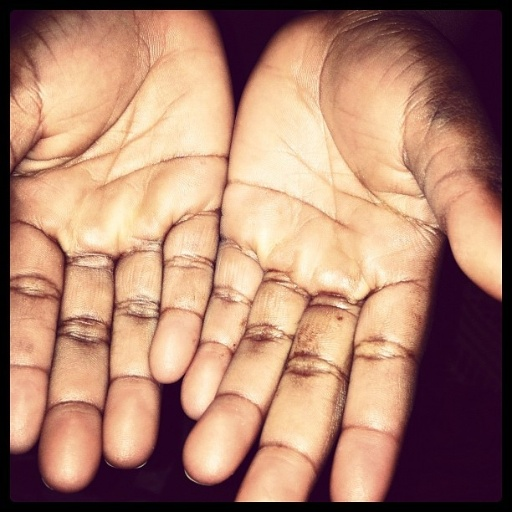hand: (178, 9, 503, 501), (10, 10, 235, 493)
